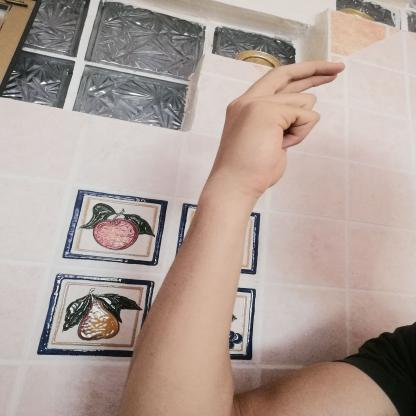ZAY: (202, 53, 353, 199)
